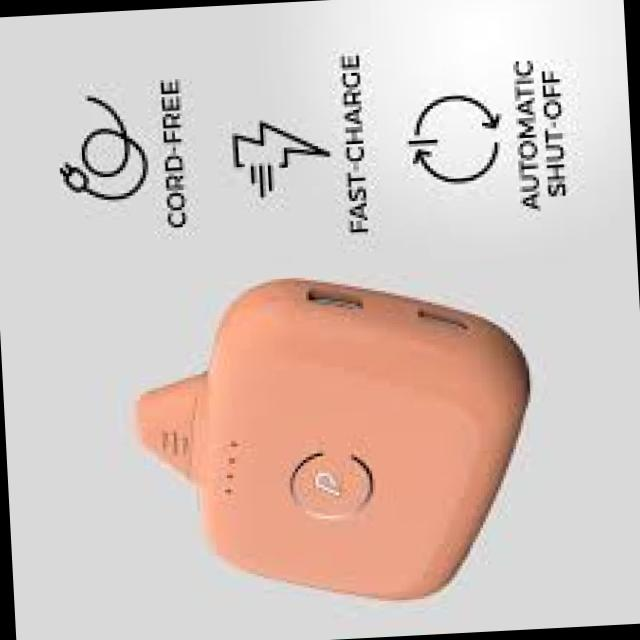power_bank: (114, 261, 553, 622)
